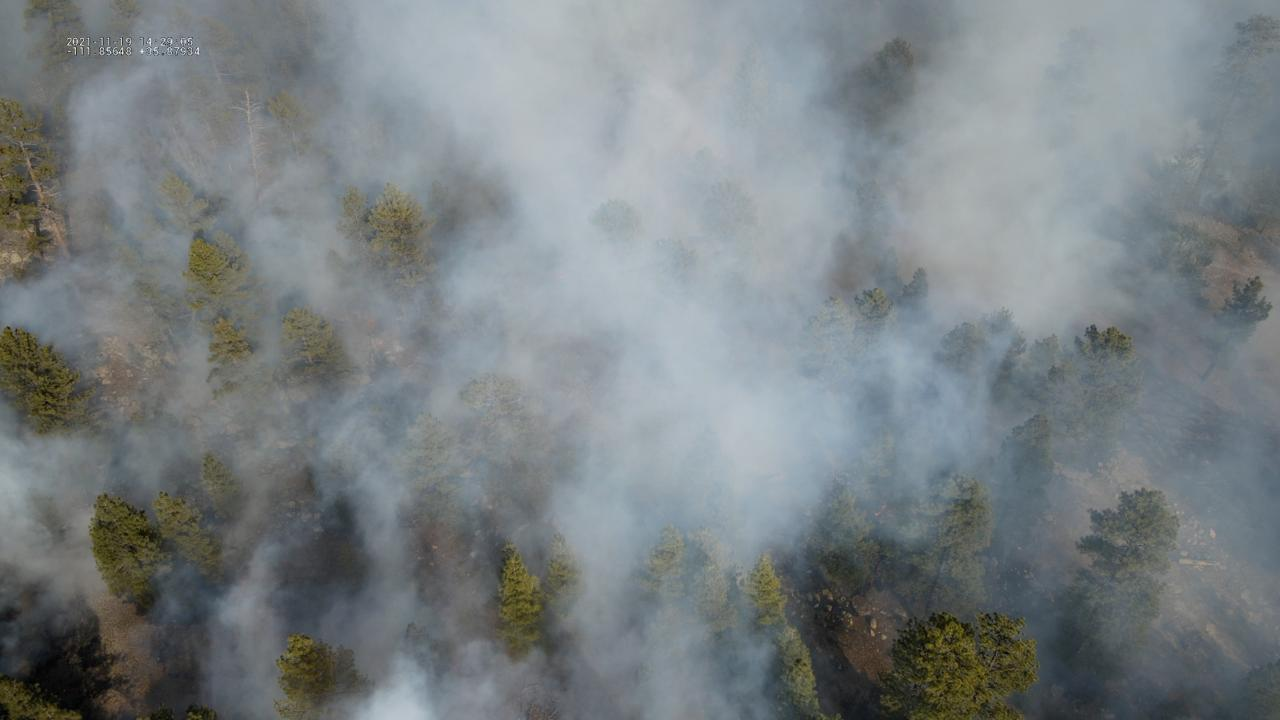fire: (873, 504, 887, 518)
smoke: (0, 0, 1280, 720)
